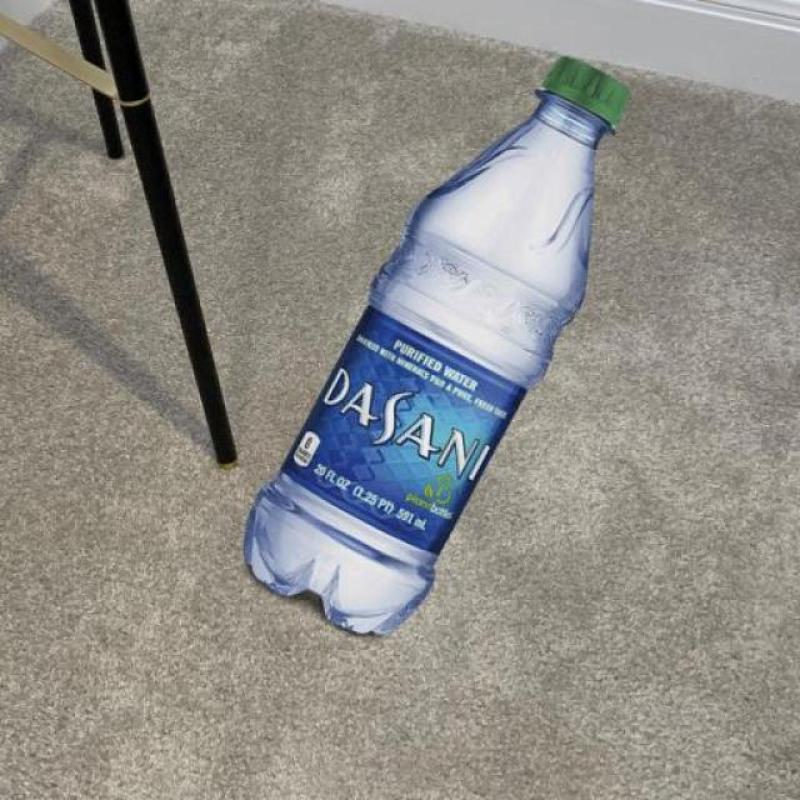botella: (241, 58, 632, 634)
